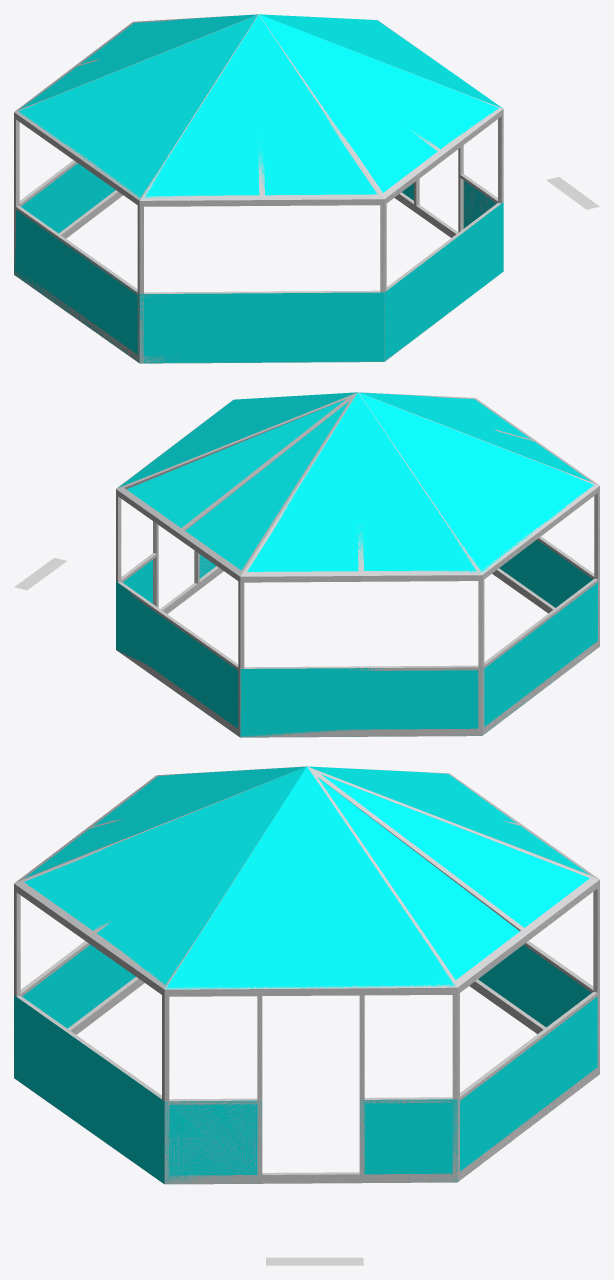
Rendered from Besedka6m6grannik.glb.
The picture shows the model from 3 angles, top to bottom: view 1: azimuth 30°, elevation 25°; view 2: azimuth 150°, elevation 25°; view 3: azimuth 270°, elevation 25°; orthographic projection. The views are drawn at different scales.
Visible parts, largest first — view 1: SketchUp, group_1, group_0, instance_1.001, group_0.001, instance_2.001, instance_0.001, group_1.001, group_0.014, group_0.016, group_0.007, Плоскость (+1 smaller); view 2: SketchUp, group_1, group_0, instance_4.001, instance_5.001, group_0.001, instance_0.001, group_0.013, group_0.014, instance_1.001, Плоскость, group_0.012; view 3: SketchUp, group_1, group_0, group_1.001, instance_4.001, instance_2.001, group_0.001, group_0.016, group_0.013, instance_3.001, instance_1.001, Плоскость (+1 smaller).
Boxes of the visible parts, x1=… form: SketchUp: x1=18, y1=14, x2=502, y2=198; group_1: x1=14, y1=163, x2=503, y2=363; group_0: x1=14, y1=109, x2=503, y2=363; instance_1.001: x1=140, y1=14, x2=384, y2=200; group_0.001: x1=19, y1=148, x2=497, y2=238; instance_2.001: x1=269, y1=29, x2=503, y2=198; instance_0.001: x1=14, y1=14, x2=258, y2=200; group_1.001: x1=463, y1=180, x2=496, y2=228; group_0.014: x1=16, y1=120, x2=137, y2=292; group_0.016: x1=386, y1=116, x2=501, y2=290; group_0.007: x1=144, y1=205, x2=380, y2=293; Плоскость: x1=546, y1=177, x2=599, y2=209; SketchUp: x1=119, y1=392, x2=593, y2=573; group_1: x1=116, y1=540, x2=597, y2=737; group_0: x1=116, y1=486, x2=599, y2=737; instance_4.001: x1=116, y1=392, x2=357, y2=576; instance_5.001: x1=240, y1=397, x2=481, y2=576; group_0.001: x1=121, y1=496, x2=594, y2=613; instance_0.001: x1=358, y1=392, x2=599, y2=574; group_0.013: x1=118, y1=496, x2=238, y2=666; group_0.014: x1=484, y1=493, x2=597, y2=665; instance_1.001: x1=358, y1=392, x2=599, y2=485; Плоскость: x1=14, y1=558, x2=66, y2=590; group_0.012: x1=244, y1=665, x2=478, y2=668; SketchUp: x1=24, y1=766, x2=589, y2=989; group_1: x1=14, y1=944, x2=597, y2=1183; group_0: x1=14, y1=880, x2=599, y2=1184; group_1.001: x1=164, y1=1100, x2=262, y2=1184; instance_4.001: x1=307, y1=766, x2=599, y2=987; instance_2.001: x1=14, y1=772, x2=291, y2=989; group_0.001: x1=20, y1=943, x2=593, y2=1034; group_0.016: x1=16, y1=893, x2=161, y2=1098; group_0.013: x1=460, y1=888, x2=597, y2=1096; instance_3.001: x1=165, y1=858, x2=456, y2=989; instance_1.001: x1=15, y1=766, x2=306, y2=882; Плоскость: x1=266, y1=1257, x2=363, y2=1265.
Bounding box in the file's own units: 7.21 × 3.5 × 6.
